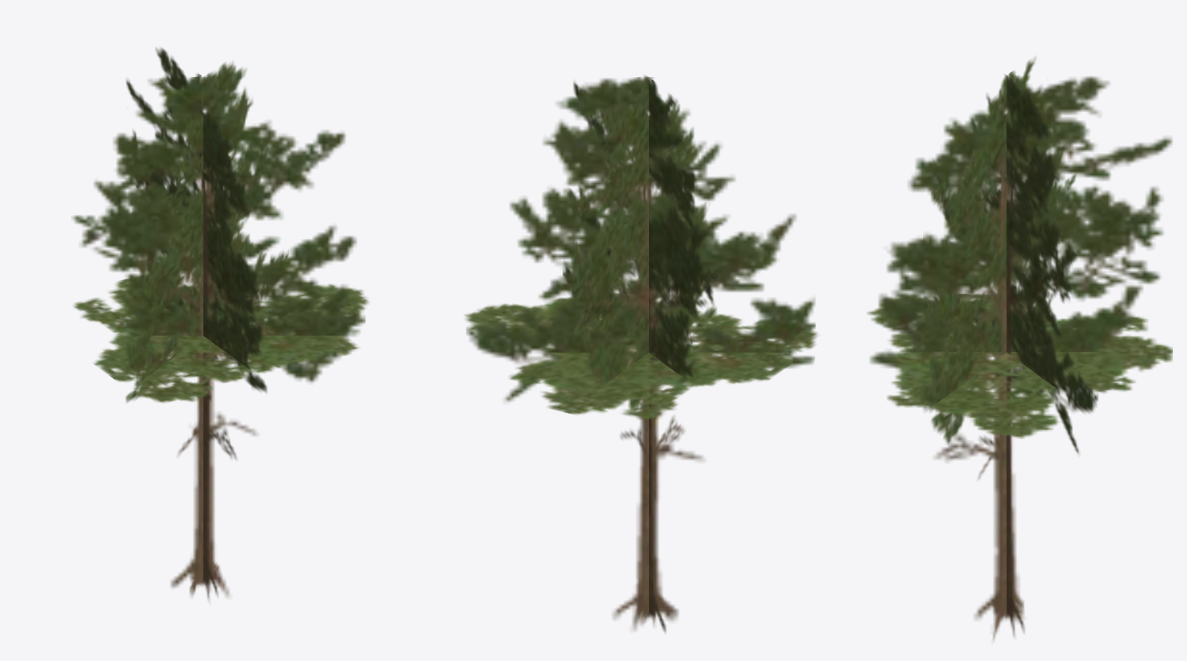
Rendered from tpine2_far.glb.
The picture shows the model from 3 angles, left to right: view 1: azimuth 30°, elevation 25°; view 2: azimuth 150°, elevation 25°; view 3: azimuth 270°, elevation 25°; orthographic projection. The views are drawn at different scales.
Parts seen in each view (by area): view 1: prefab; view 2: prefab; view 3: prefab.
Part boxes in pixels (x1=…): prefab: x1=72, y1=48, x2=368, y2=599; prefab: x1=464, y1=75, x2=817, y2=632; prefab: x1=867, y1=57, x2=1172, y2=640.
Bounding box in the file's own units: 6.85 × 12.02 × 5.97.
Materials: 1 (1 with a texture image).
